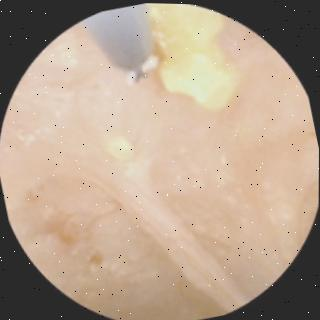stone: (150, 3, 238, 107)
tissue: (5, 29, 309, 311)
